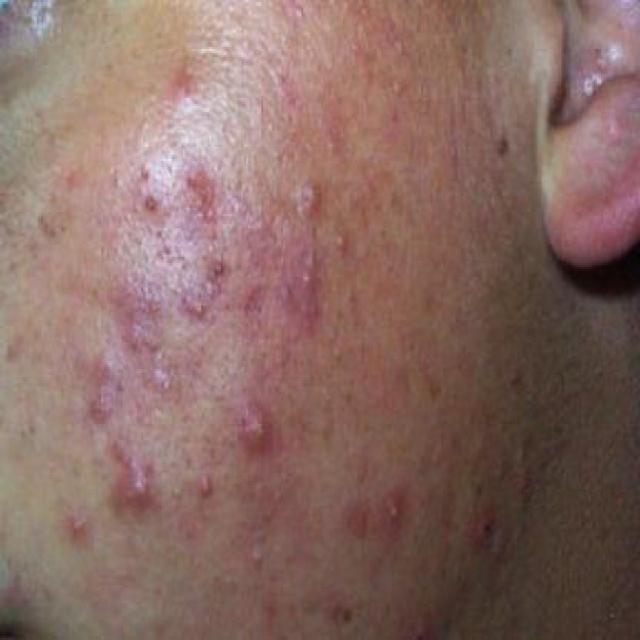papules: (112, 458, 168, 516), (77, 375, 132, 434), (280, 178, 328, 236), (80, 341, 134, 392), (232, 406, 286, 454), (61, 498, 95, 548)
pustules: (374, 493, 412, 536), (323, 222, 360, 265), (192, 463, 222, 501)
